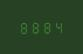eight: (18, 20, 28, 34), (29, 20, 39, 34), (40, 20, 50, 33)
four: (51, 19, 61, 33)
